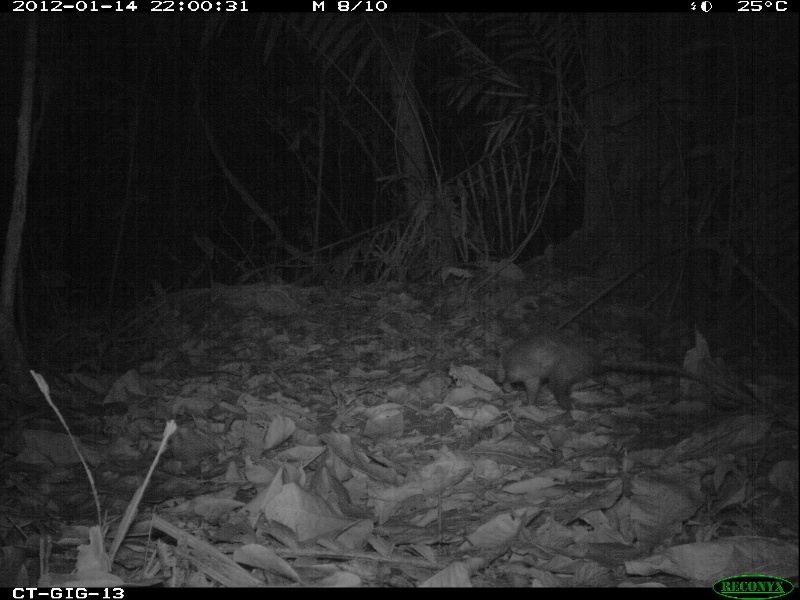opossum: (491, 330, 712, 416)
